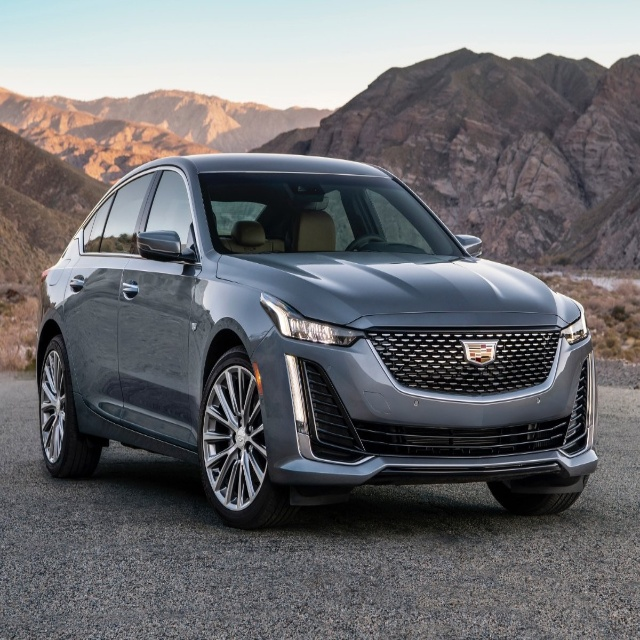Car: (35, 151, 597, 532)
